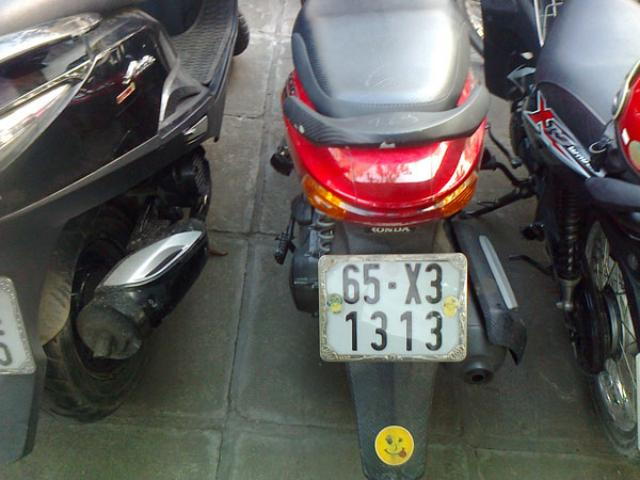plate: (319, 260, 467, 360)
